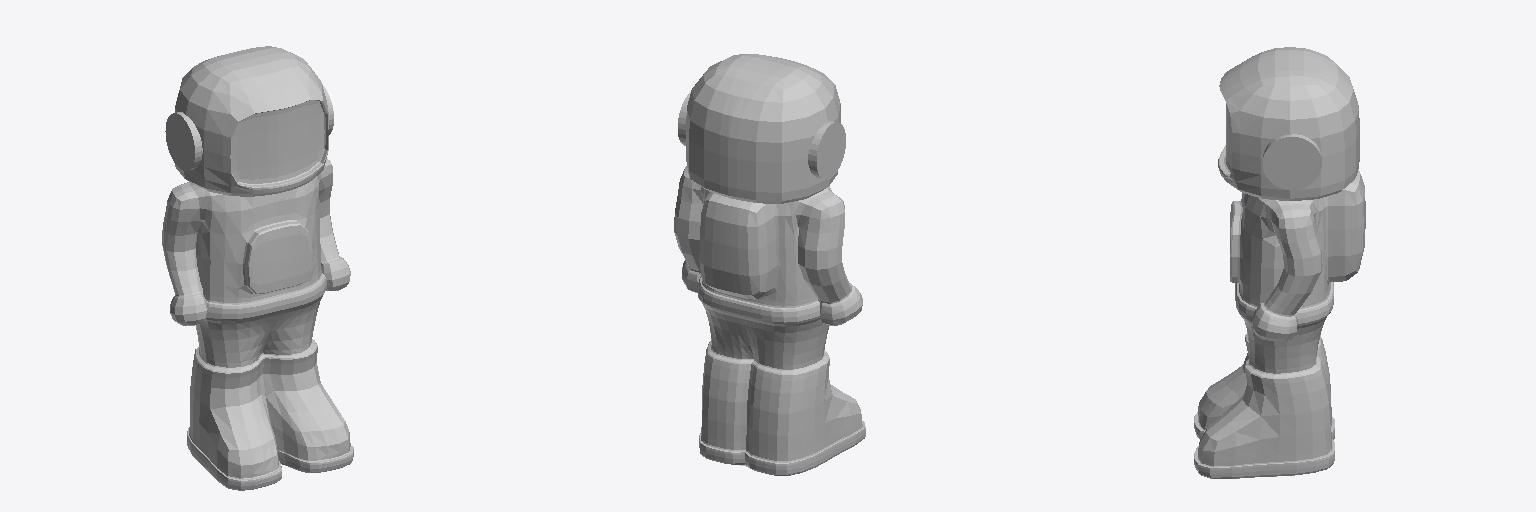
3 renders of one model, left to right at view 1: azimuth 30°, elevation 25°; view 2: azimuth 150°, elevation 25°; view 3: azimuth 270°, elevation 25°, orthographic.
Parts seen in each view (by area): view 1: Spaceman_v2; view 2: Spaceman_v2; view 3: Spaceman_v2.
Part boxes in pixels (x1,y1,x2,y2): Spaceman_v2: (162, 46, 353, 490); Spaceman_v2: (674, 54, 865, 475); Spaceman_v2: (1194, 47, 1365, 478).
Size of the model in its own units: 2.31 by 4.85 by 1.95.